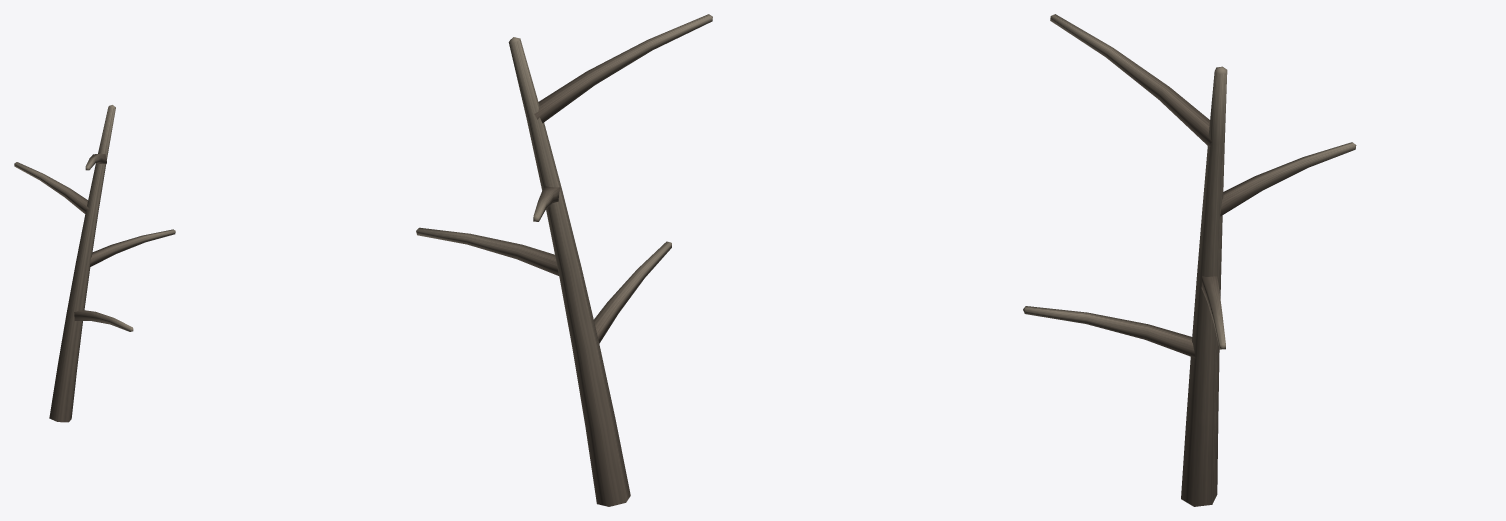
Rendered from beardlichen.glb.
The picture shows the model from 3 angles, left to right: view 1: azimuth 30°, elevation 25°; view 2: azimuth 150°, elevation 25°; view 3: azimuth 270°, elevation 25°; orthographic projection. The views are drawn at different scales.
Visible parts, largest first — view 1: beardlichen; view 2: beardlichen; view 3: beardlichen.
Part boxes in pixels (bbox=[...]): beardlichen: bbox=[14, 105, 175, 422]; beardlichen: bbox=[416, 14, 712, 506]; beardlichen: bbox=[1023, 14, 1356, 506].
Bounding box in the file's own units: 0.2923 × 0.337 × 0.3838.
Materials: 1 (1 with a texture image).
